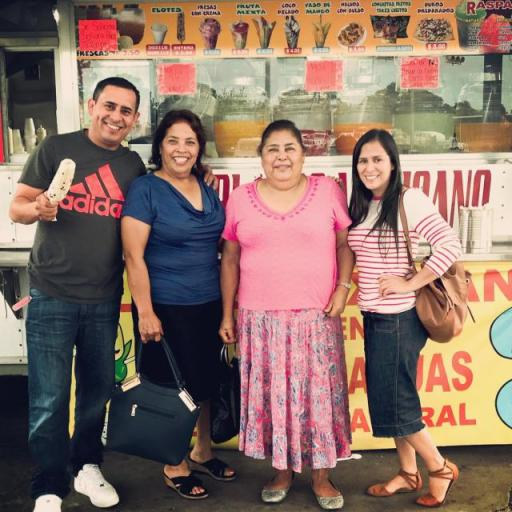Adidas: (56, 162, 127, 218)
